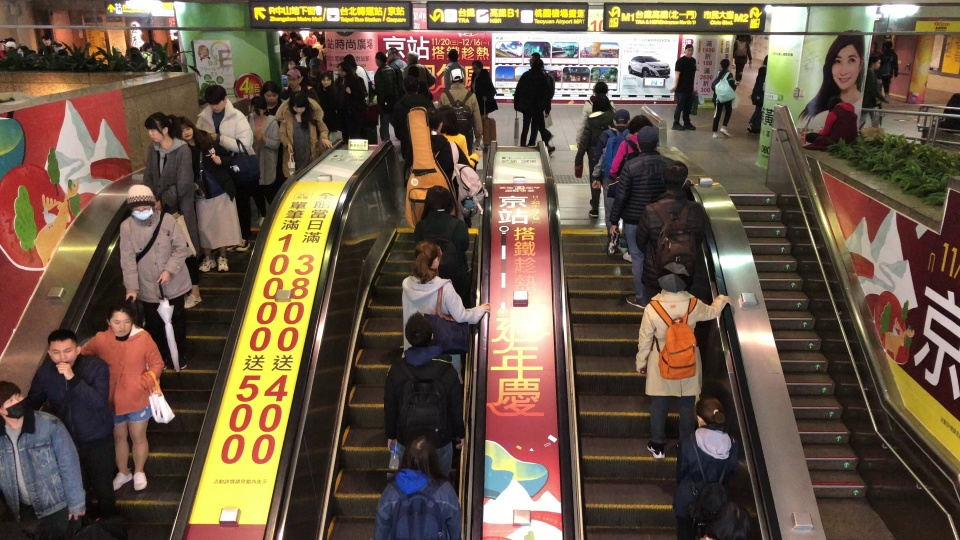person_head: (711, 502, 752, 540), (400, 435, 440, 473), (47, 329, 82, 368), (0, 380, 27, 430), (400, 312, 435, 346), (657, 261, 691, 294), (693, 396, 728, 428), (126, 184, 155, 221), (143, 110, 172, 143), (105, 307, 134, 338), (414, 242, 443, 271), (660, 159, 686, 191), (203, 84, 228, 113), (437, 103, 459, 135), (427, 185, 453, 211), (634, 125, 659, 152), (174, 114, 194, 140), (422, 107, 442, 133), (628, 115, 654, 134), (286, 92, 308, 114), (260, 80, 279, 105), (590, 95, 612, 113), (249, 96, 266, 117), (286, 69, 303, 88), (447, 68, 464, 87), (612, 109, 630, 126), (867, 52, 881, 71), (828, 96, 844, 112), (590, 83, 609, 95), (127, 46, 142, 61), (307, 57, 321, 73), (336, 64, 350, 79), (16, 45, 35, 56), (374, 50, 387, 66), (320, 71, 332, 88), (386, 46, 400, 60), (446, 49, 459, 63), (470, 60, 484, 73), (527, 52, 540, 66), (406, 65, 419, 78), (111, 44, 123, 58), (716, 59, 730, 70), (52, 43, 65, 54), (284, 58, 297, 69), (343, 54, 356, 65), (407, 50, 418, 63), (683, 44, 694, 57), (40, 36, 52, 47), (7, 40, 17, 51), (884, 40, 893, 51), (1, 37, 7, 50), (538, 58, 544, 69), (763, 54, 769, 65)
person_vbox: (634, 261, 732, 484), (26, 327, 126, 537), (81, 305, 174, 492), (379, 311, 470, 480), (115, 182, 193, 371), (614, 125, 695, 302), (0, 380, 87, 539), (397, 240, 492, 383), (172, 113, 249, 273), (142, 109, 202, 307), (194, 83, 261, 252), (634, 158, 706, 300), (371, 434, 465, 540), (406, 105, 484, 228), (671, 395, 735, 537), (609, 114, 657, 262), (411, 185, 472, 297), (590, 109, 632, 255), (573, 95, 615, 218), (276, 93, 336, 177), (244, 96, 281, 226), (513, 51, 556, 155), (438, 67, 485, 156), (374, 48, 405, 159), (523, 56, 559, 148), (802, 96, 859, 152), (436, 105, 483, 172), (333, 63, 371, 137), (469, 58, 499, 145), (574, 82, 615, 144), (708, 59, 738, 139), (669, 43, 696, 131), (859, 51, 889, 130), (746, 53, 773, 136), (699, 502, 752, 540), (341, 53, 376, 105), (319, 71, 338, 142), (404, 49, 436, 90), (878, 38, 899, 100), (259, 79, 285, 126), (441, 48, 467, 92), (285, 70, 319, 102), (731, 34, 752, 85), (405, 63, 434, 99), (385, 45, 408, 90), (306, 57, 322, 91)
